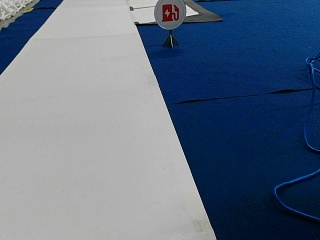battery: (153, 0, 187, 29)
